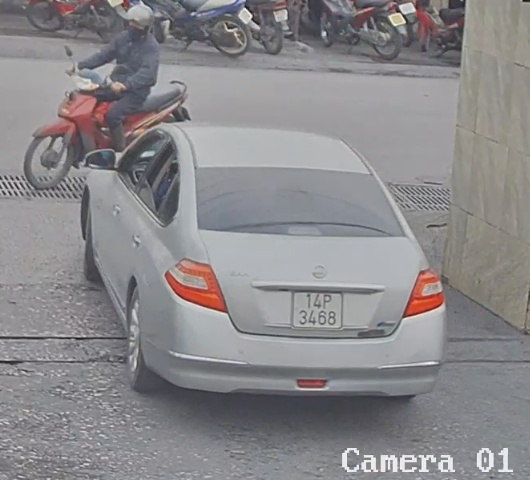vehicle plate: (290, 286, 345, 329)
